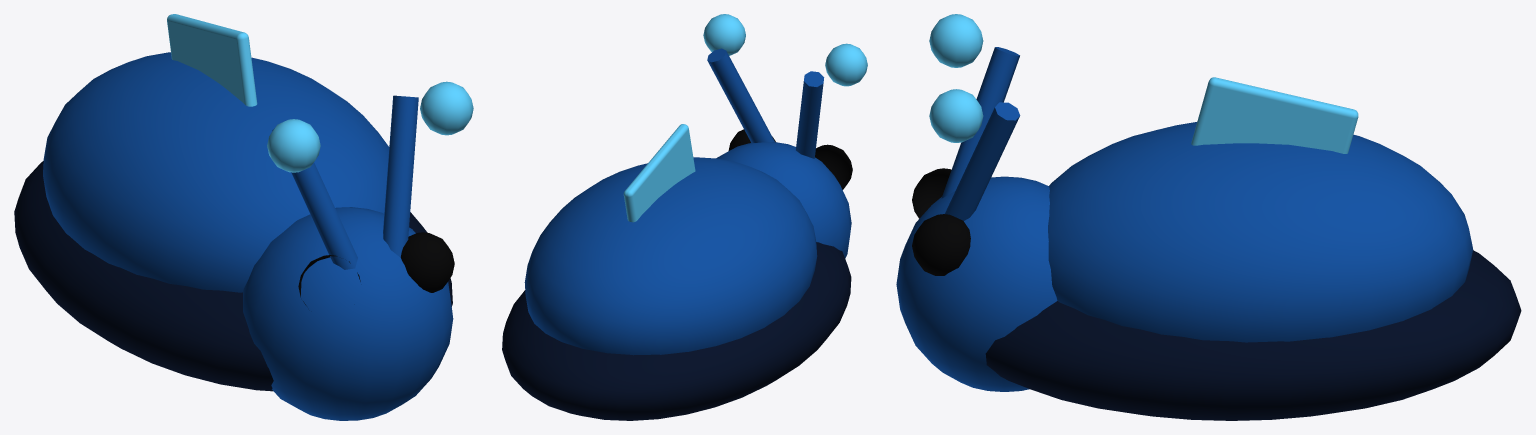
File: marea.obj
3 views of the same model, side by side, from view 1: azimuth 30°, elevation 25°; view 2: azimuth 150°, elevation 25°; view 3: azimuth 270°, elevation 25° (orthographic). The views are drawn at different scales.
Bounding box in the file's own units: 0.424 × 0.4007 × 0.6858.
